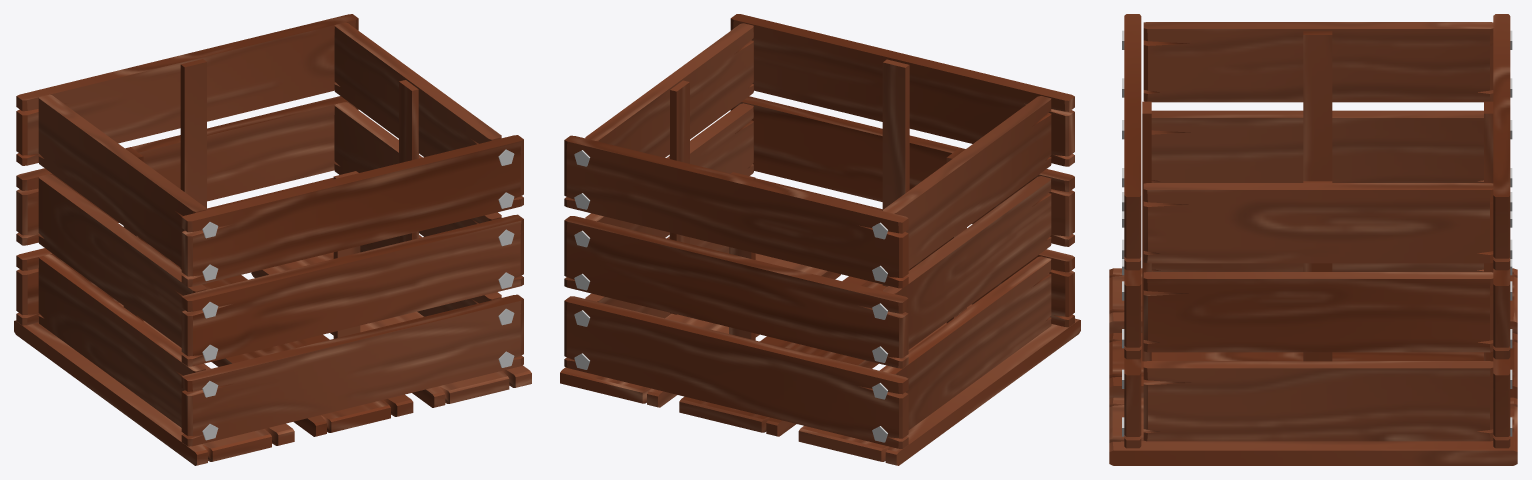
Rendered from WoodenCrate.fbx.
3 views of the same model, side by side, from view 1: azimuth 30°, elevation 25°; view 2: azimuth 150°, elevation 25°; view 3: azimuth 270°, elevation 25° (orthographic). The views are drawn at different scales.
Visible parts, largest first — view 1: WoodenCrate; view 2: WoodenCrate; view 3: WoodenCrate.
Boxes of the visible parts, <box> form: WoodenCrate: <box>14,14,531,465</box>; WoodenCrate: <box>560,14,1080,465</box>; WoodenCrate: <box>1109,14,1517,465</box>.
Size of the model in its own units: 127 by 86.67 by 119.
